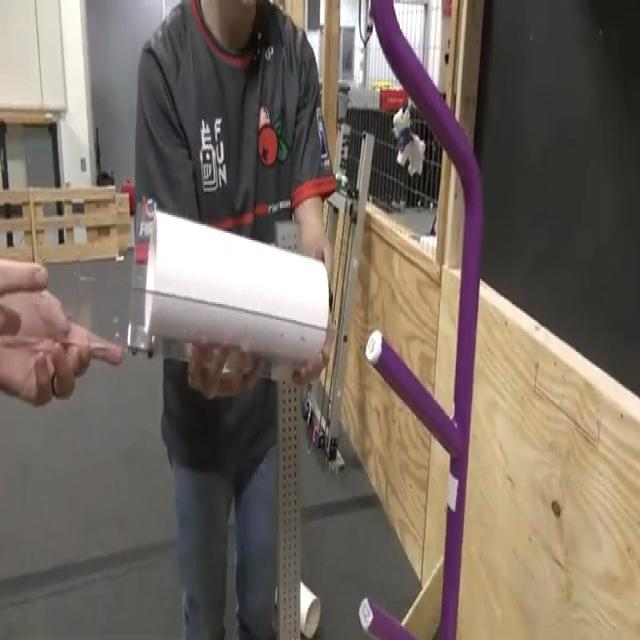Coral: (127, 198, 330, 366)
